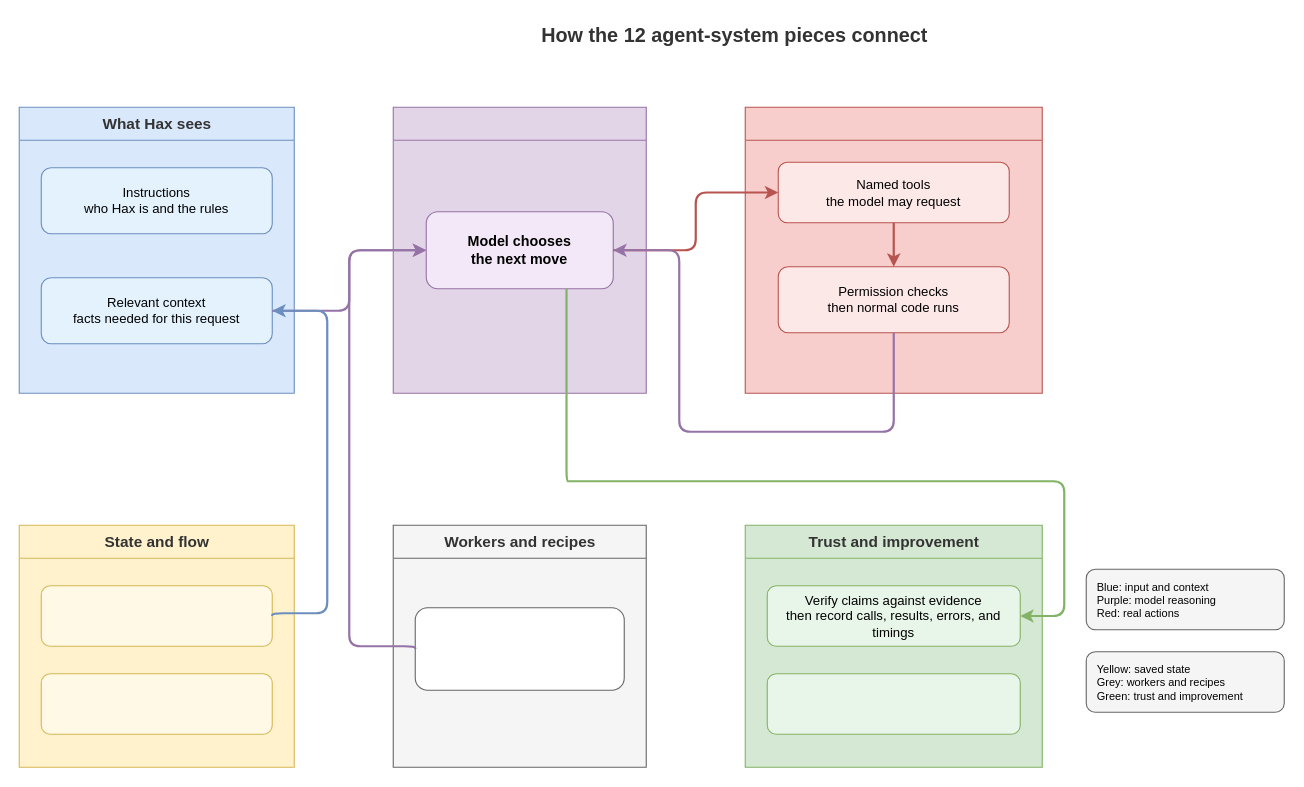
Some shapes in this 1304 by 787 pixel diagram are drawn without their labels. The box of each missing label's shape, as (x1, y1, x2, y2) in pixels:
Action boundary: (744, 106, 1042, 393)
Agent brain: (392, 106, 646, 393)
Flow manager order, retries, approvals: (40, 673, 272, 734)
Saved memory profile, decisions, events: (40, 585, 272, 646)
Specialist work and saved recipes return focused help, not a pile of raw work: (414, 607, 624, 690)
Use repeat failures to improve rules, context selection, tools, and recipes: (766, 673, 1020, 734)
